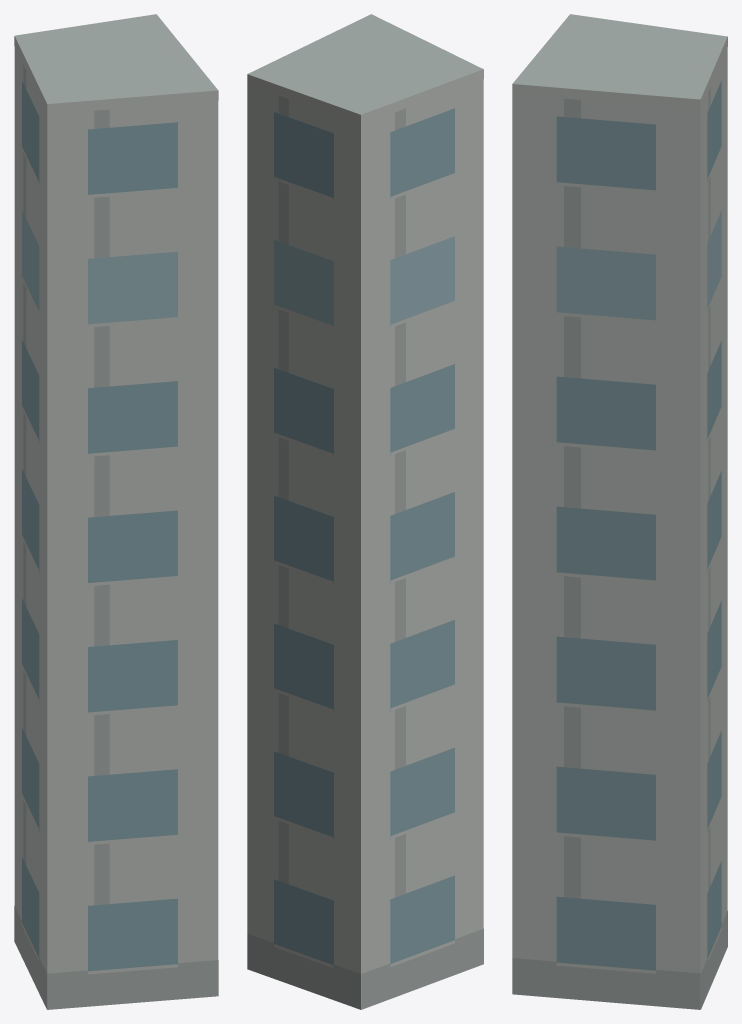
File: survey-upis-32877596.glb
The picture shows the model from 3 angles, left to right: view 1: azimuth 30°, elevation 25°; view 2: azimuth 150°, elevation 25°; view 3: azimuth 270°, elevation 25°; orthographic projection.
Parts seen in each view (by area): view 1: survey-upis-32877596.tmp; view 2: survey-upis-32877596.tmp; view 3: survey-upis-32877596.tmp.
Part boxes in pixels (<box>): survey-upis-32877596.tmp: <box>14,14,218,1009</box>; survey-upis-32877596.tmp: <box>247,14,483,1009</box>; survey-upis-32877596.tmp: <box>512,14,727,1009</box>.
Size of the model in its own units: 4.31 by 21.35 by 4.59.
